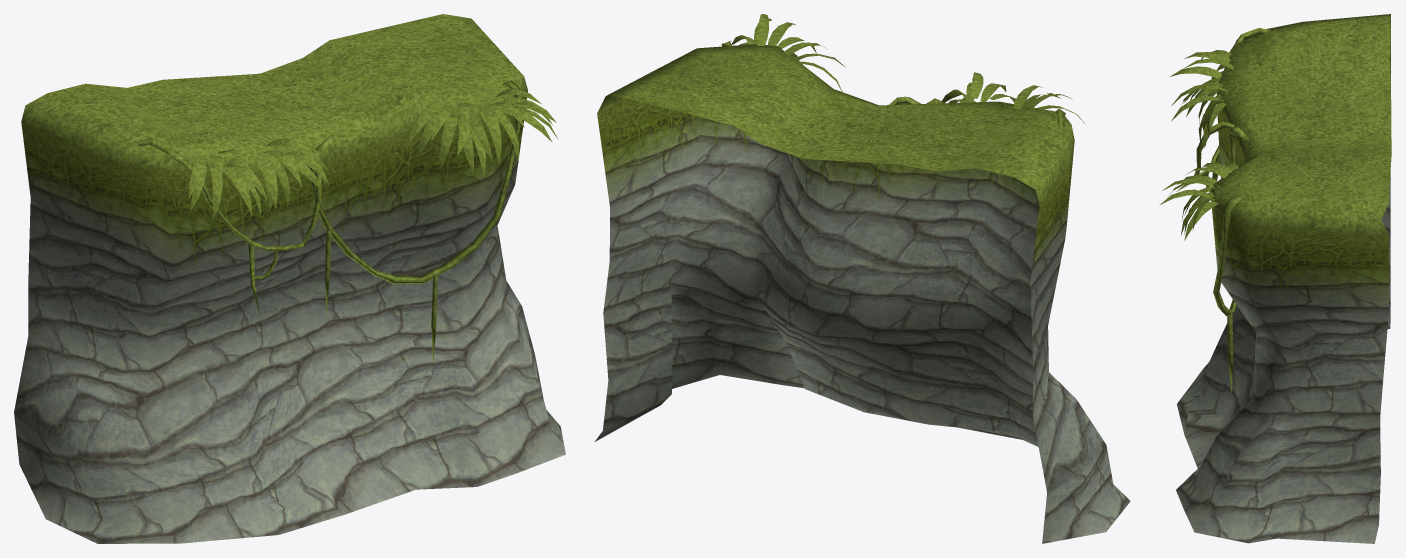
Rendered from beach cliff C.FBX.
3 views of the same model, side by side, from view 1: azimuth 30°, elevation 25°; view 2: azimuth 150°, elevation 25°; view 3: azimuth 270°, elevation 25° (orthographic). The views are drawn at different scales.
Visible parts, largest first — view 1: beach cliff C; view 2: beach cliff C; view 3: beach cliff C.
Boxes of the visible parts, bbox=[...] form: beach cliff C: bbox=[14, 14, 565, 543]; beach cliff C: bbox=[595, 14, 1130, 543]; beach cliff C: bbox=[1159, 14, 1391, 543].
Bounding box in the file's own units: 27.54 × 20.98 × 12.96.
